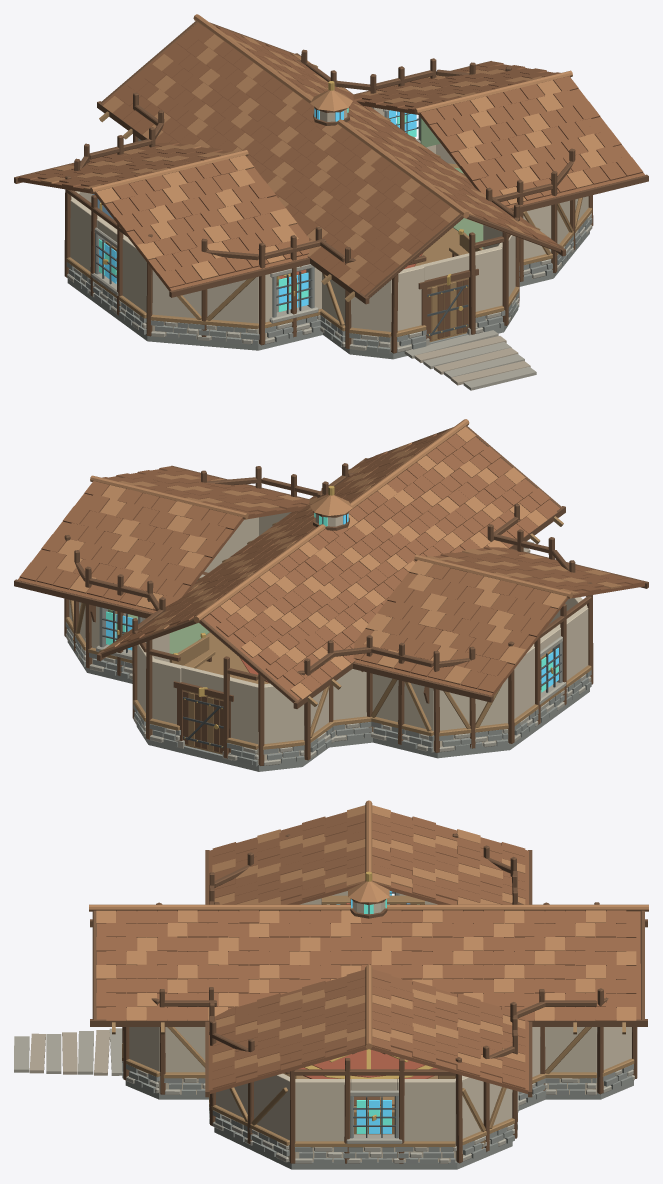
File: holm_guide_hall_v6.glb
The picture shows the model from 3 angles, top to bottom: view 1: azimuth 30°, elevation 25°; view 2: azimuth 150°, elevation 25°; view 3: azimuth 270°, elevation 25°; orthographic projection. The views are drawn at different scales.
Visible parts, largest first — view 1: Roof_Fired_Roof_Umber, Roof_Fired_Roof_Sun, Static_Holm_Limewash, Static_Holm_Oak_Dark, Static_Holm_Fieldstone, Static_Holm_Fieldstone_Light, Roof_Holm_Oak_Dark, Static_Holm_Oak_Worn, Static_Holm_Path, front_door_Holm_Oak_Dark, Static_Civic_Glass_Tide, front_door_Holm_Oak_Worn (+2 smaller); view 2: Roof_Fired_Roof_Umber, Roof_Fired_Roof_Sun, Static_Holm_Limewash, Static_Holm_Oak_Dark, Static_Holm_Fieldstone, Static_Holm_Oak_Worn, Roof_Holm_Oak_Dark, Static_Holm_Fieldstone_Light, teaching_door_Holm_Oak_Dark, teaching_door_Holm_Oak_Worn, Static_Provision_Moss, Static_Forged_Iron (+1 smaller); view 3: Roof_Fired_Roof_Umber, Roof_Fired_Roof_Sun, Static_Holm_Limewash, Static_Holm_Oak_Dark, Static_Holm_Fieldstone, Static_Holm_Fieldstone_Light, Static_Holm_Oak_Worn, Roof_Holm_Oak_Dark, Static_Holm_Path, Static_Compass_Ember, Static_Civic_Glass_Tide, Static_Aged_Brass.
Boxes of the visible parts, left/top/right/bottom form: Roof_Fired_Roof_Umber: left=18, top=23, right=645, bottom=295; Roof_Fired_Roof_Sun: left=40, top=14, right=606, bottom=285; Static_Holm_Limewash: left=70, top=107, right=588, bottom=351; Static_Holm_Oak_Dark: left=64, top=49, right=593, bottom=353; Static_Holm_Fieldstone: left=66, top=109, right=592, bottom=359; Static_Holm_Fieldstone_Light: left=67, top=109, right=592, bottom=390; Roof_Holm_Oak_Dark: left=14, top=21, right=648, bottom=304; Static_Holm_Oak_Worn: left=66, top=163, right=592, bottom=337; Static_Holm_Path: left=414, top=336, right=530, bottom=385; front_door_Holm_Oak_Dark: left=427, top=279, right=468, bottom=340; Static_Civic_Glass_Tide: left=99, top=110, right=416, bottom=309; front_door_Holm_Oak_Worn: left=427, top=277, right=468, bottom=342; Roof_Fired_Roof_Umber: left=17, top=431, right=645, bottom=700; Roof_Fired_Roof_Sun: left=57, top=419, right=622, bottom=699; Static_Holm_Limewash: left=69, top=512, right=588, bottom=763; Static_Holm_Oak_Dark: left=64, top=463, right=593, bottom=765; Static_Holm_Fieldstone: left=65, top=607, right=591, bottom=771; Static_Holm_Oak_Worn: left=65, top=600, right=591, bottom=749; Roof_Holm_Oak_Dark: left=14, top=425, right=648, bottom=708; Static_Holm_Fieldstone_Light: left=65, top=541, right=591, bottom=765; teaching_door_Holm_Oak_Dark: left=183, top=691, right=223, bottom=753; teaching_door_Holm_Oak_Worn: left=183, top=690, right=223, bottom=754; Static_Provision_Moss: left=108, top=609, right=209, bottom=653; Static_Forged_Iron: left=102, top=610, right=561, bottom=692; Roof_Fired_Roof_Umber: left=96, top=812, right=640, bottom=1093; Roof_Fired_Roof_Sun: left=89, top=800, right=648, bottom=1068; Static_Holm_Limewash: left=129, top=891, right=631, bottom=1161; Static_Holm_Oak_Dark: left=122, top=833, right=637, bottom=1163; Static_Holm_Fieldstone: left=122, top=892, right=633, bottom=1169; Static_Holm_Fieldstone_Light: left=14, top=1028, right=634, bottom=1163; Static_Holm_Oak_Worn: left=122, top=895, right=634, bottom=1148; Roof_Holm_Oak_Dark: left=90, top=850, right=647, bottom=1097; Static_Holm_Path: left=29, top=1030, right=109, bottom=1075; Static_Compass_Ember: left=298, top=903, right=439, bottom=1078; Static_Civic_Glass_Tide: left=336, top=891, right=391, bottom=1133; Static_Aged_Brass: left=304, top=1049, right=433, bottom=1120.
Size of the model in its own units: 26.47 by 9.38 by 29.25.
